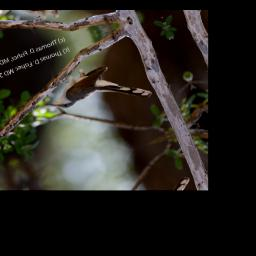Cuckoo: (35, 42, 156, 135)
